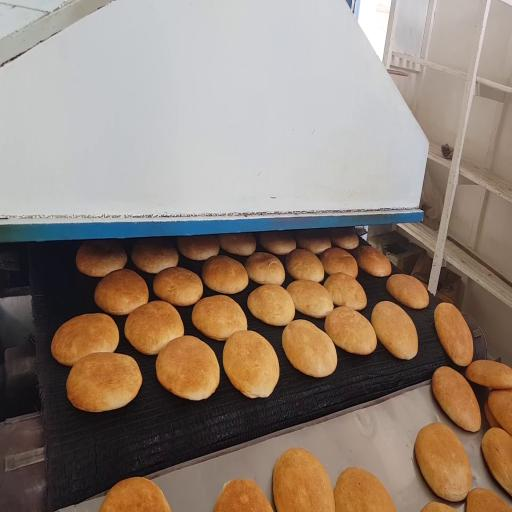bread: (415, 423, 471, 501), (67, 353, 142, 411), (156, 336, 219, 400), (273, 448, 335, 511), (223, 331, 279, 398), (51, 313, 119, 365), (432, 366, 481, 431), (282, 320, 337, 377), (125, 301, 183, 355), (335, 467, 396, 511), (372, 302, 418, 359), (192, 295, 247, 340), (325, 307, 376, 355), (95, 269, 148, 315), (435, 303, 473, 366), (100, 477, 170, 511), (248, 284, 295, 326), (153, 267, 203, 306), (482, 428, 511, 495), (76, 240, 127, 277), (214, 480, 273, 511), (202, 256, 248, 294), (287, 280, 333, 318), (132, 238, 178, 274), (324, 273, 366, 310), (387, 275, 429, 309), (466, 360, 511, 389), (286, 249, 324, 282), (245, 253, 285, 284), (487, 390, 512, 435), (320, 248, 358, 277), (466, 488, 511, 511), (177, 236, 219, 260), (357, 247, 391, 276), (259, 231, 296, 255), (296, 229, 331, 254), (219, 233, 256, 255), (330, 228, 358, 249), (484, 401, 500, 428), (421, 502, 453, 511)
